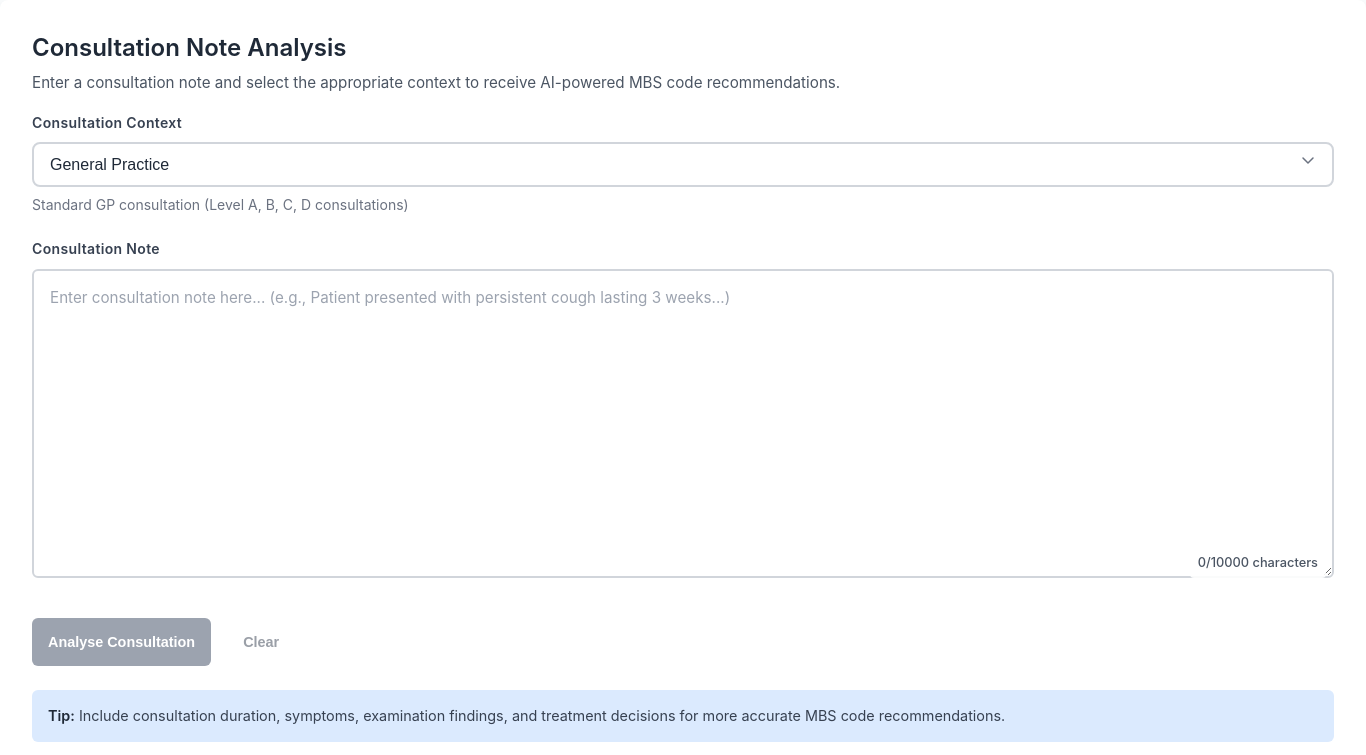
Test: ConsultationInput › After User Starts Typing › should show validation error after user types and input is too short
The width and height of the screenshot is (1366, 755).
User types some text (less than minimum)
Type "short" into the text box labelled "Consultation Note" at (683, 424), box [32, 269, 1334, 578]
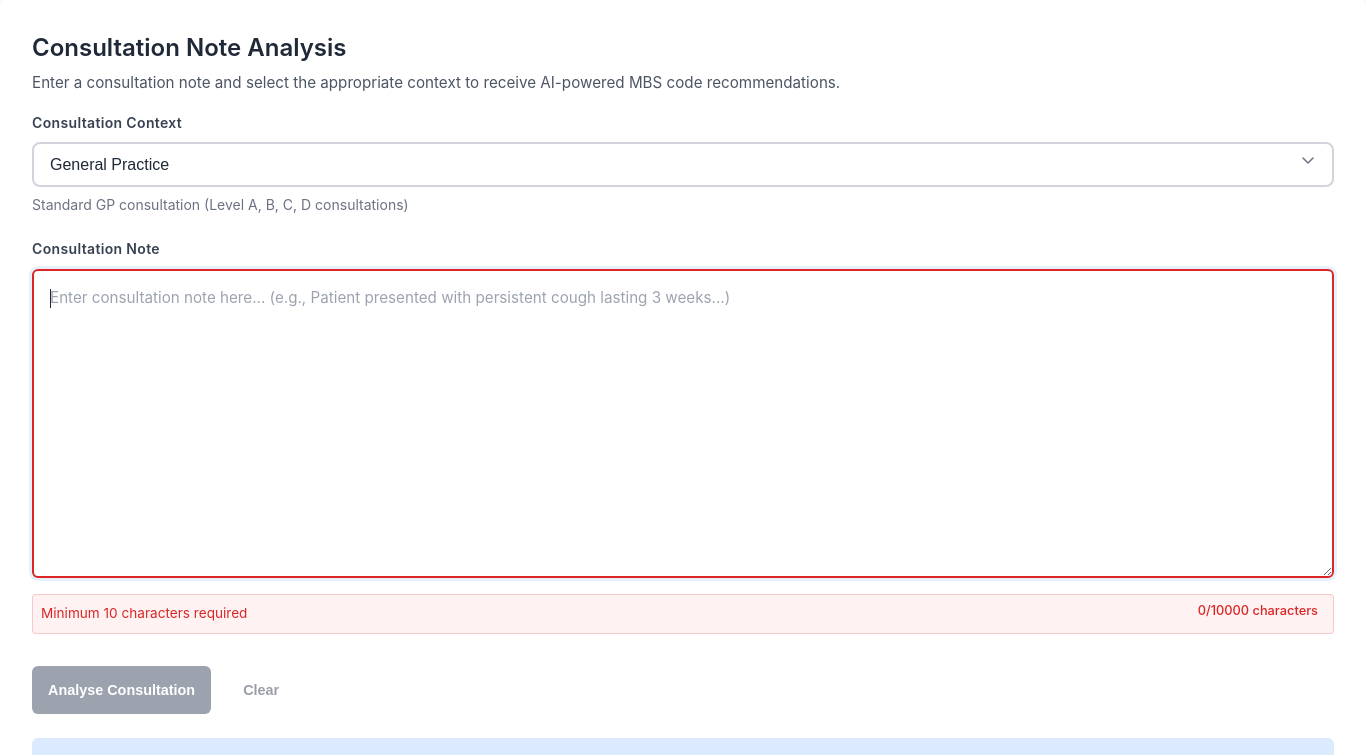
Now the message "Minimum 10 characters required" is shown, box [32, 594, 1334, 634]
